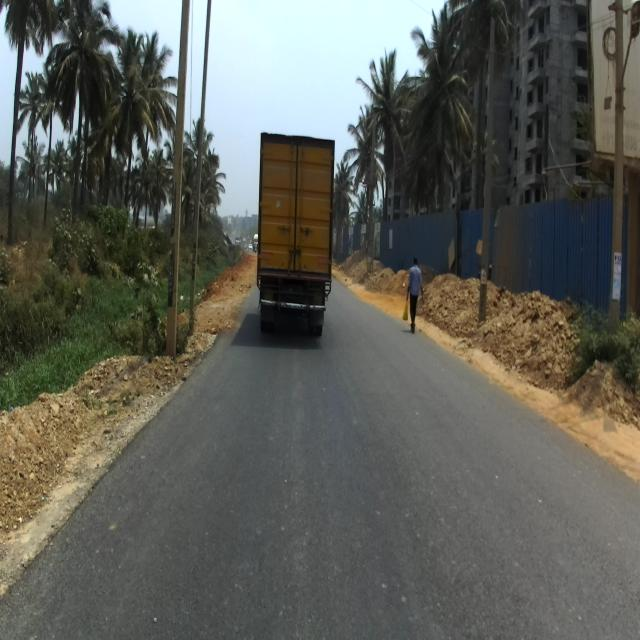person ahead at: (402, 254, 428, 342)
truck ahead at: (258, 133, 335, 344)
